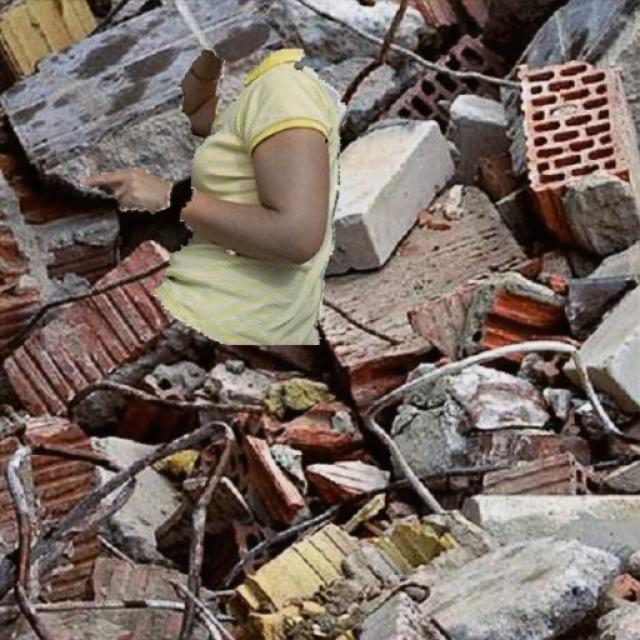Person in Rubble: (80, 49, 349, 344)
